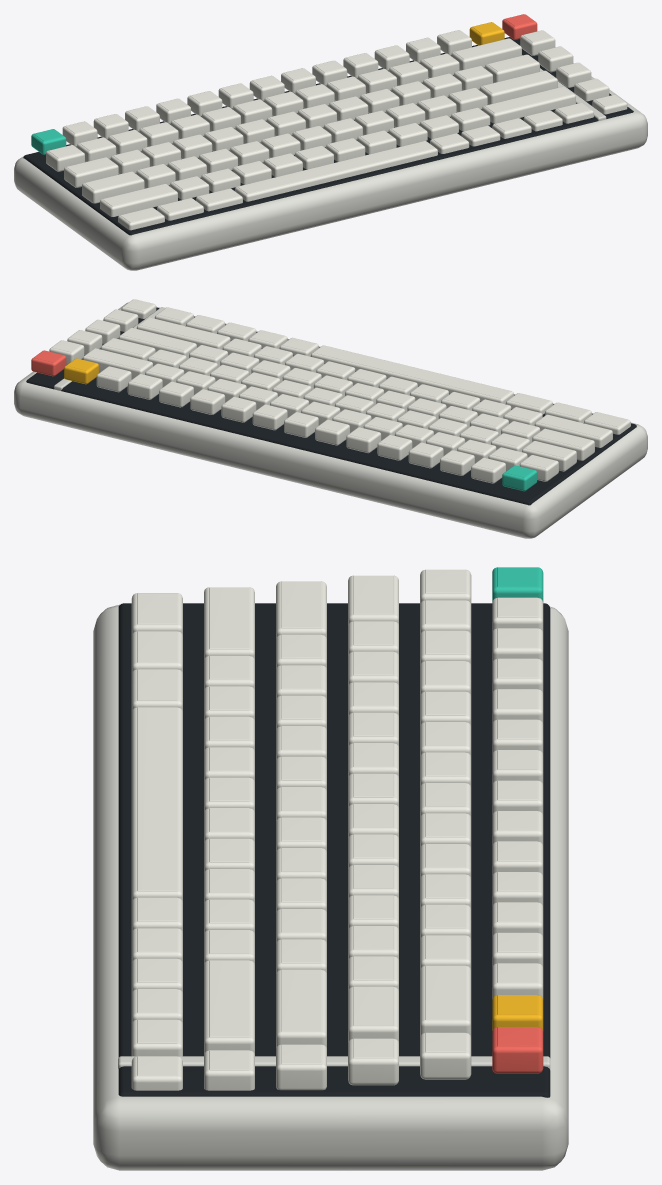
File: lod0_source.glb
3 renders of one model, top to bottom at view 1: azimuth 30°, elevation 25°; view 2: azimuth 150°, elevation 25°; view 3: azimuth 270°, elevation 25°, orthographic. The views are drawn at different scales.
Visible parts, largest first — view 1: Keyboard shell, Main recessed deck, Keycap top bottom 03, Keycap bottom 03, Keycap shift row 11, Keycap shift row 00, Keycap row3-12, Keycap top shift row 11, Keycap row1-13, Keycap row3-00, Keycap row2-00, Keycap top shift row 00 (+76 smaller); view 2: Keyboard shell, Main recessed deck, Keycap top bottom 03, Keycap bottom 03, Keycap top shift row 11, Keycap top shift row 00, Keycap top row3-12, Keycap top row1-13, Keycap shift row 00, Keycap shift row 11, Keycap function 00, Keycap separated coral (+23 smaller); view 3: Main recessed deck, Keyboard shell, Separated right navigation deck, Keycap top bottom 03, Keycap top shift row 11, Keycap top shift row 00, Keycap top row3-12, Keycap bottom 03, Keycap top row1-13, Keycap top row3-00, Keycap navigation 1, Keycap separated coral (+84 smaller).
Part boxes in pixels (bbox=[...]): Keyboard shell: bbox=[14, 63, 647, 270]; Main recessed deck: bbox=[23, 45, 598, 235]; Keycap top bottom 03: bbox=[238, 141, 435, 194]; Keycap bottom 03: bbox=[235, 141, 437, 201]; Keycap shift row 11: bbox=[482, 86, 575, 123]; Keycap shift row 00: bbox=[100, 184, 177, 216]; Keycap row3-12: bbox=[479, 71, 557, 104]; Keycap top shift row 11: bbox=[485, 87, 572, 113]; Keycap row1-13: bbox=[451, 38, 521, 70]; Keycap row3-00: bbox=[82, 171, 144, 203]; Keycap row2-00: bbox=[64, 157, 118, 187]; Keycap top shift row 00: bbox=[102, 184, 175, 206]; Keyboard shell: bbox=[14, 302, 647, 538]; Main recessed deck: bbox=[61, 316, 636, 505]; Keycap top bottom 03: bbox=[313, 345, 510, 398]; Keycap bottom 03: bbox=[310, 345, 513, 403]; Keycap top shift row 11: bbox=[139, 317, 227, 344]; Keycap top shift row 00: bbox=[537, 414, 609, 437]; Keycap top row3-12: bbox=[121, 328, 194, 350]; Keycap top row1-13: bbox=[85, 348, 149, 369]; Keycap shift row 00: bbox=[534, 414, 612, 447]; Keycap shift row 11: bbox=[136, 317, 230, 349]; Keycap function 00: bbox=[502, 465, 537, 491]; Keycap separated coral: bbox=[31, 350, 66, 376]; Main recessed deck: bbox=[118, 603, 550, 1057]; Keyboard shell: bbox=[93, 604, 568, 1170]; Separated right navigation deck: bbox=[118, 1066, 550, 1097]; Keycap top bottom 03: bbox=[137, 707, 177, 891]; Keycap top shift row 11: bbox=[209, 960, 249, 1037]; Keycap top shift row 00: bbox=[209, 587, 249, 649]; Keycap top row3-12: bbox=[281, 969, 321, 1031]; Keycap bottom 03: bbox=[131, 707, 182, 902]; Keycap top row1-13: bbox=[425, 965, 465, 1019]; Keycap top row3-00: bbox=[281, 581, 321, 628]; Keycap navigation 1: bbox=[420, 1032, 471, 1079]; Keycap separated coral: bbox=[492, 1027, 543, 1073].
Size of the model in its own units: 0.37 by 0.0393 by 0.145.
